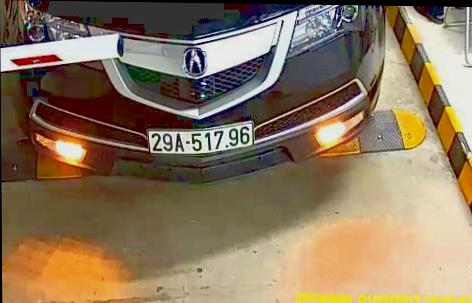License_Plate: (143, 121, 260, 158)
